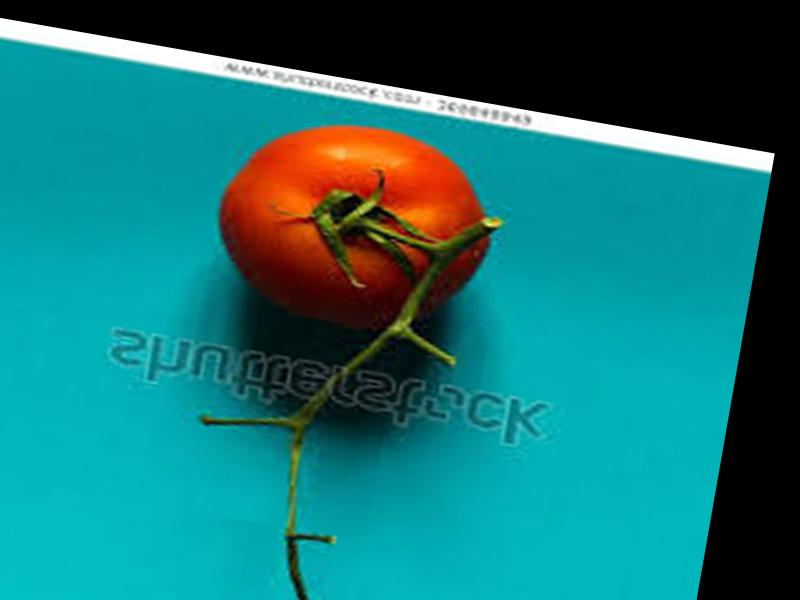Tomato: (206, 107, 506, 343)
